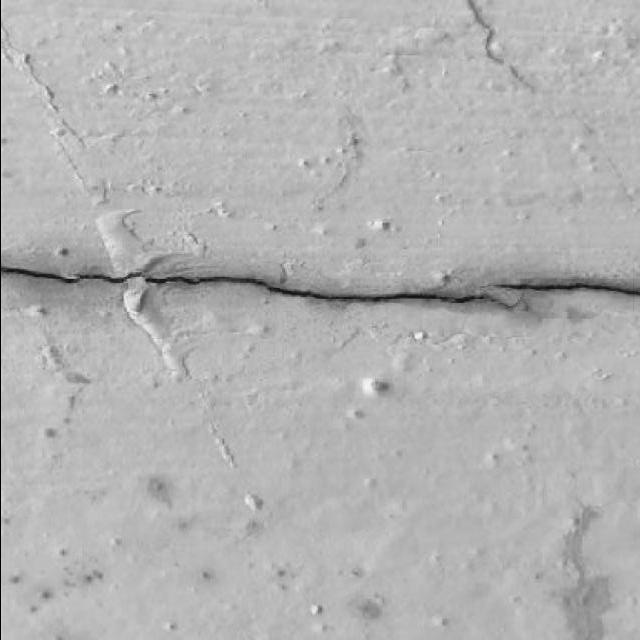Crack: (0, 263, 639, 312)
